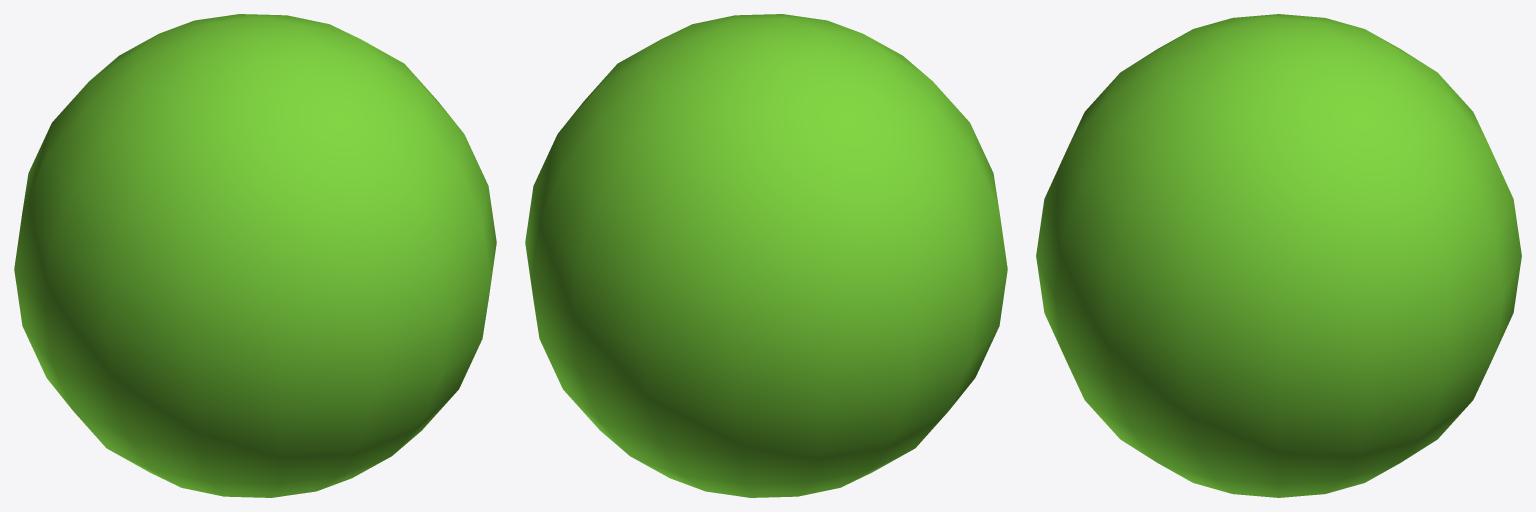
The model's file is candy_012.glb.
3 renders of one model, left to right at view 1: azimuth 30°, elevation 25°; view 2: azimuth 150°, elevation 25°; view 3: azimuth 270°, elevation 25°, orthographic.
Visible parts, largest first — view 1: candy_012; view 2: candy_012; view 3: candy_012.
Boxes of the visible parts, x1,y1,x2,y2 form: candy_012: [14, 14, 496, 497]; candy_012: [525, 14, 1007, 497]; candy_012: [1036, 14, 1521, 497].
Size of the model in its own units: 1.22 by 1.22 by 1.22.
Materials: 1 (1 with a texture image).
